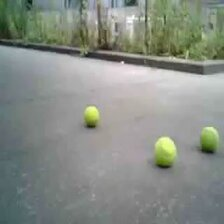tennis: (152, 136, 177, 166), (199, 127, 218, 152), (83, 105, 99, 125)
